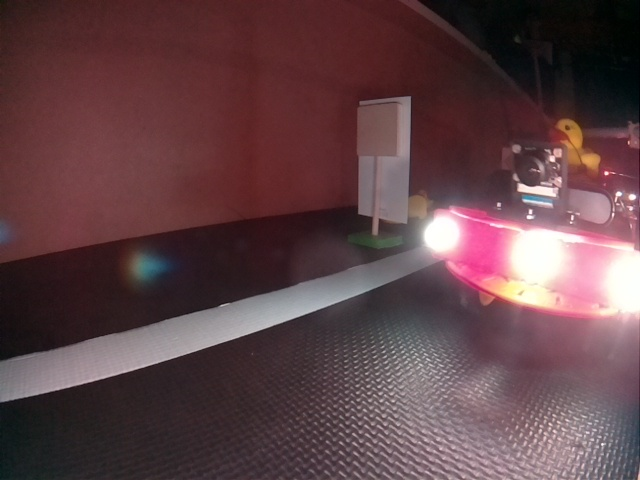Duckie: (553, 119, 600, 173)
Duckiebot: (432, 142, 638, 324)
